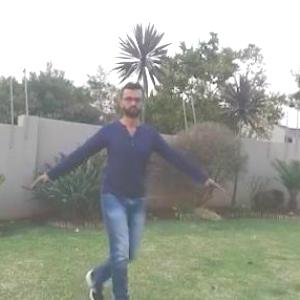land: (54, 99, 184, 258)
